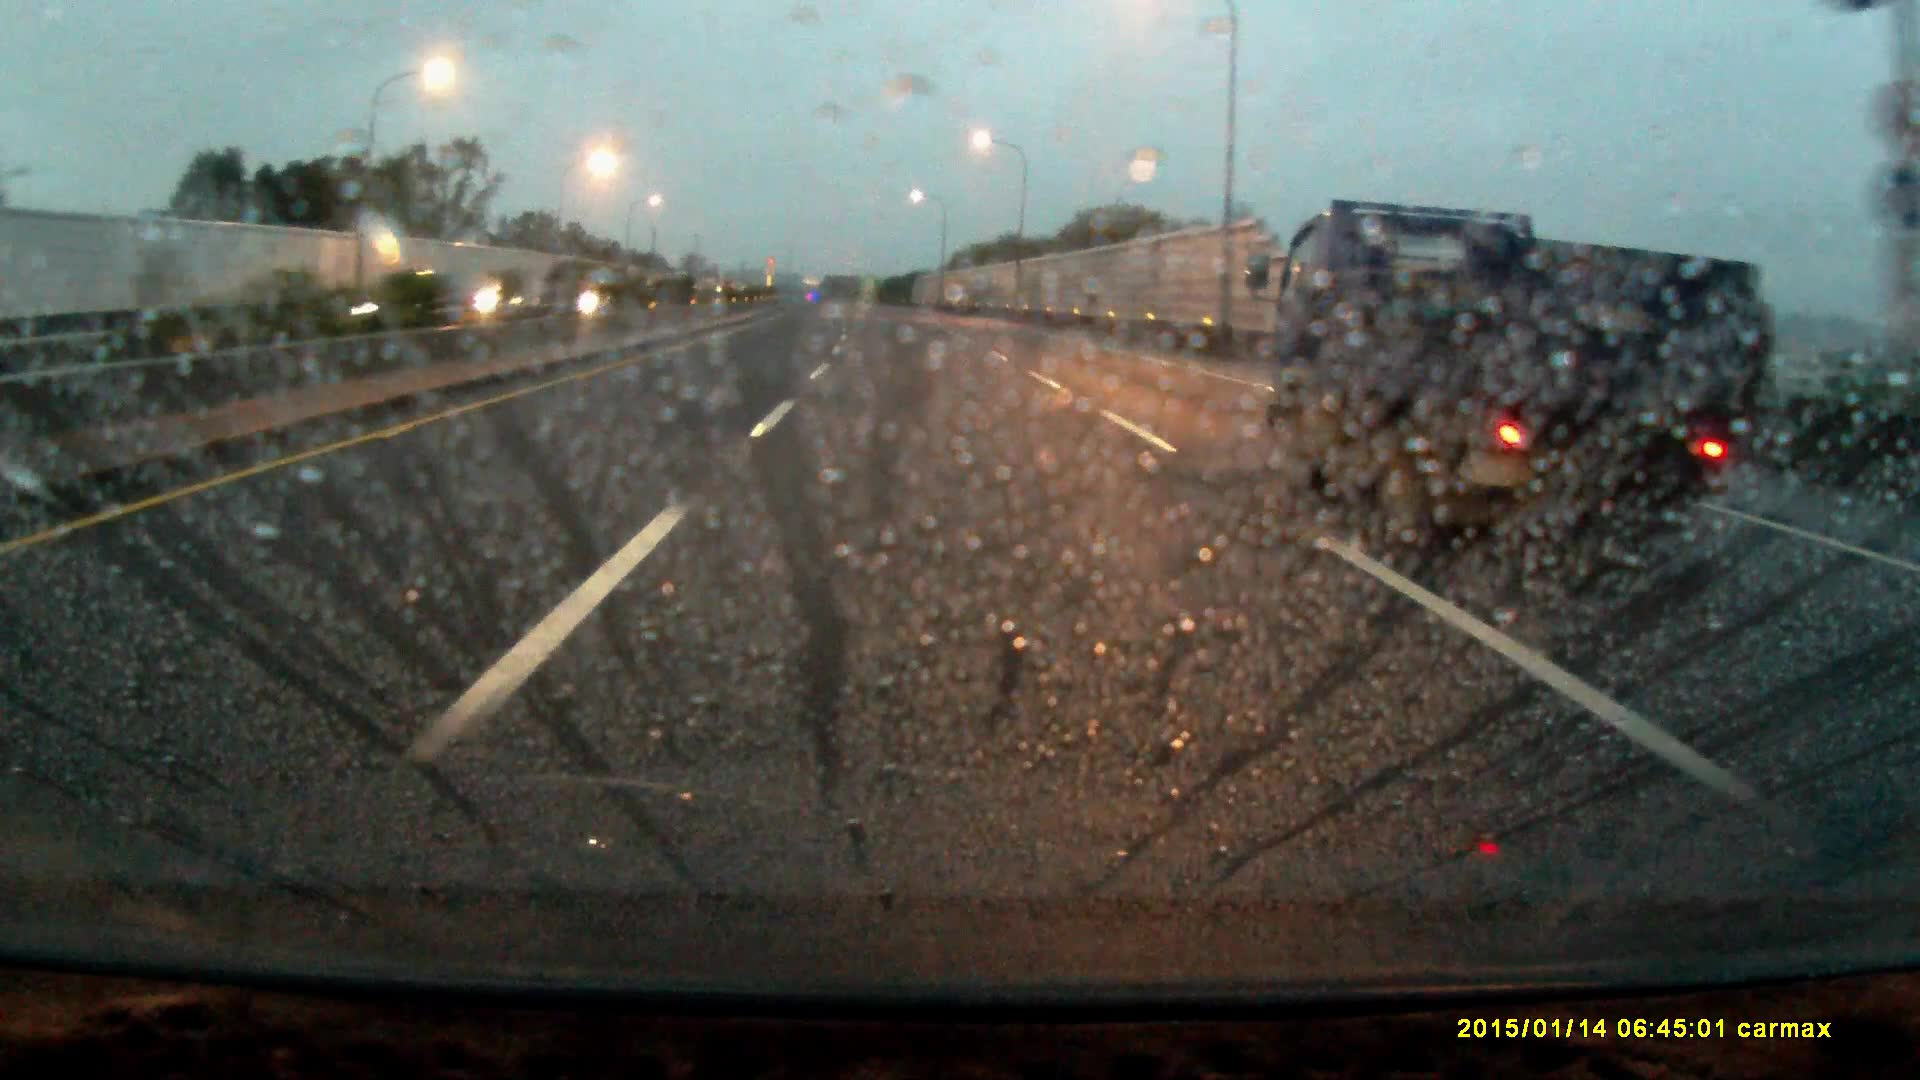vehicle: (1244, 200, 1774, 553), (351, 273, 454, 332), (554, 276, 618, 316), (473, 287, 549, 316)
